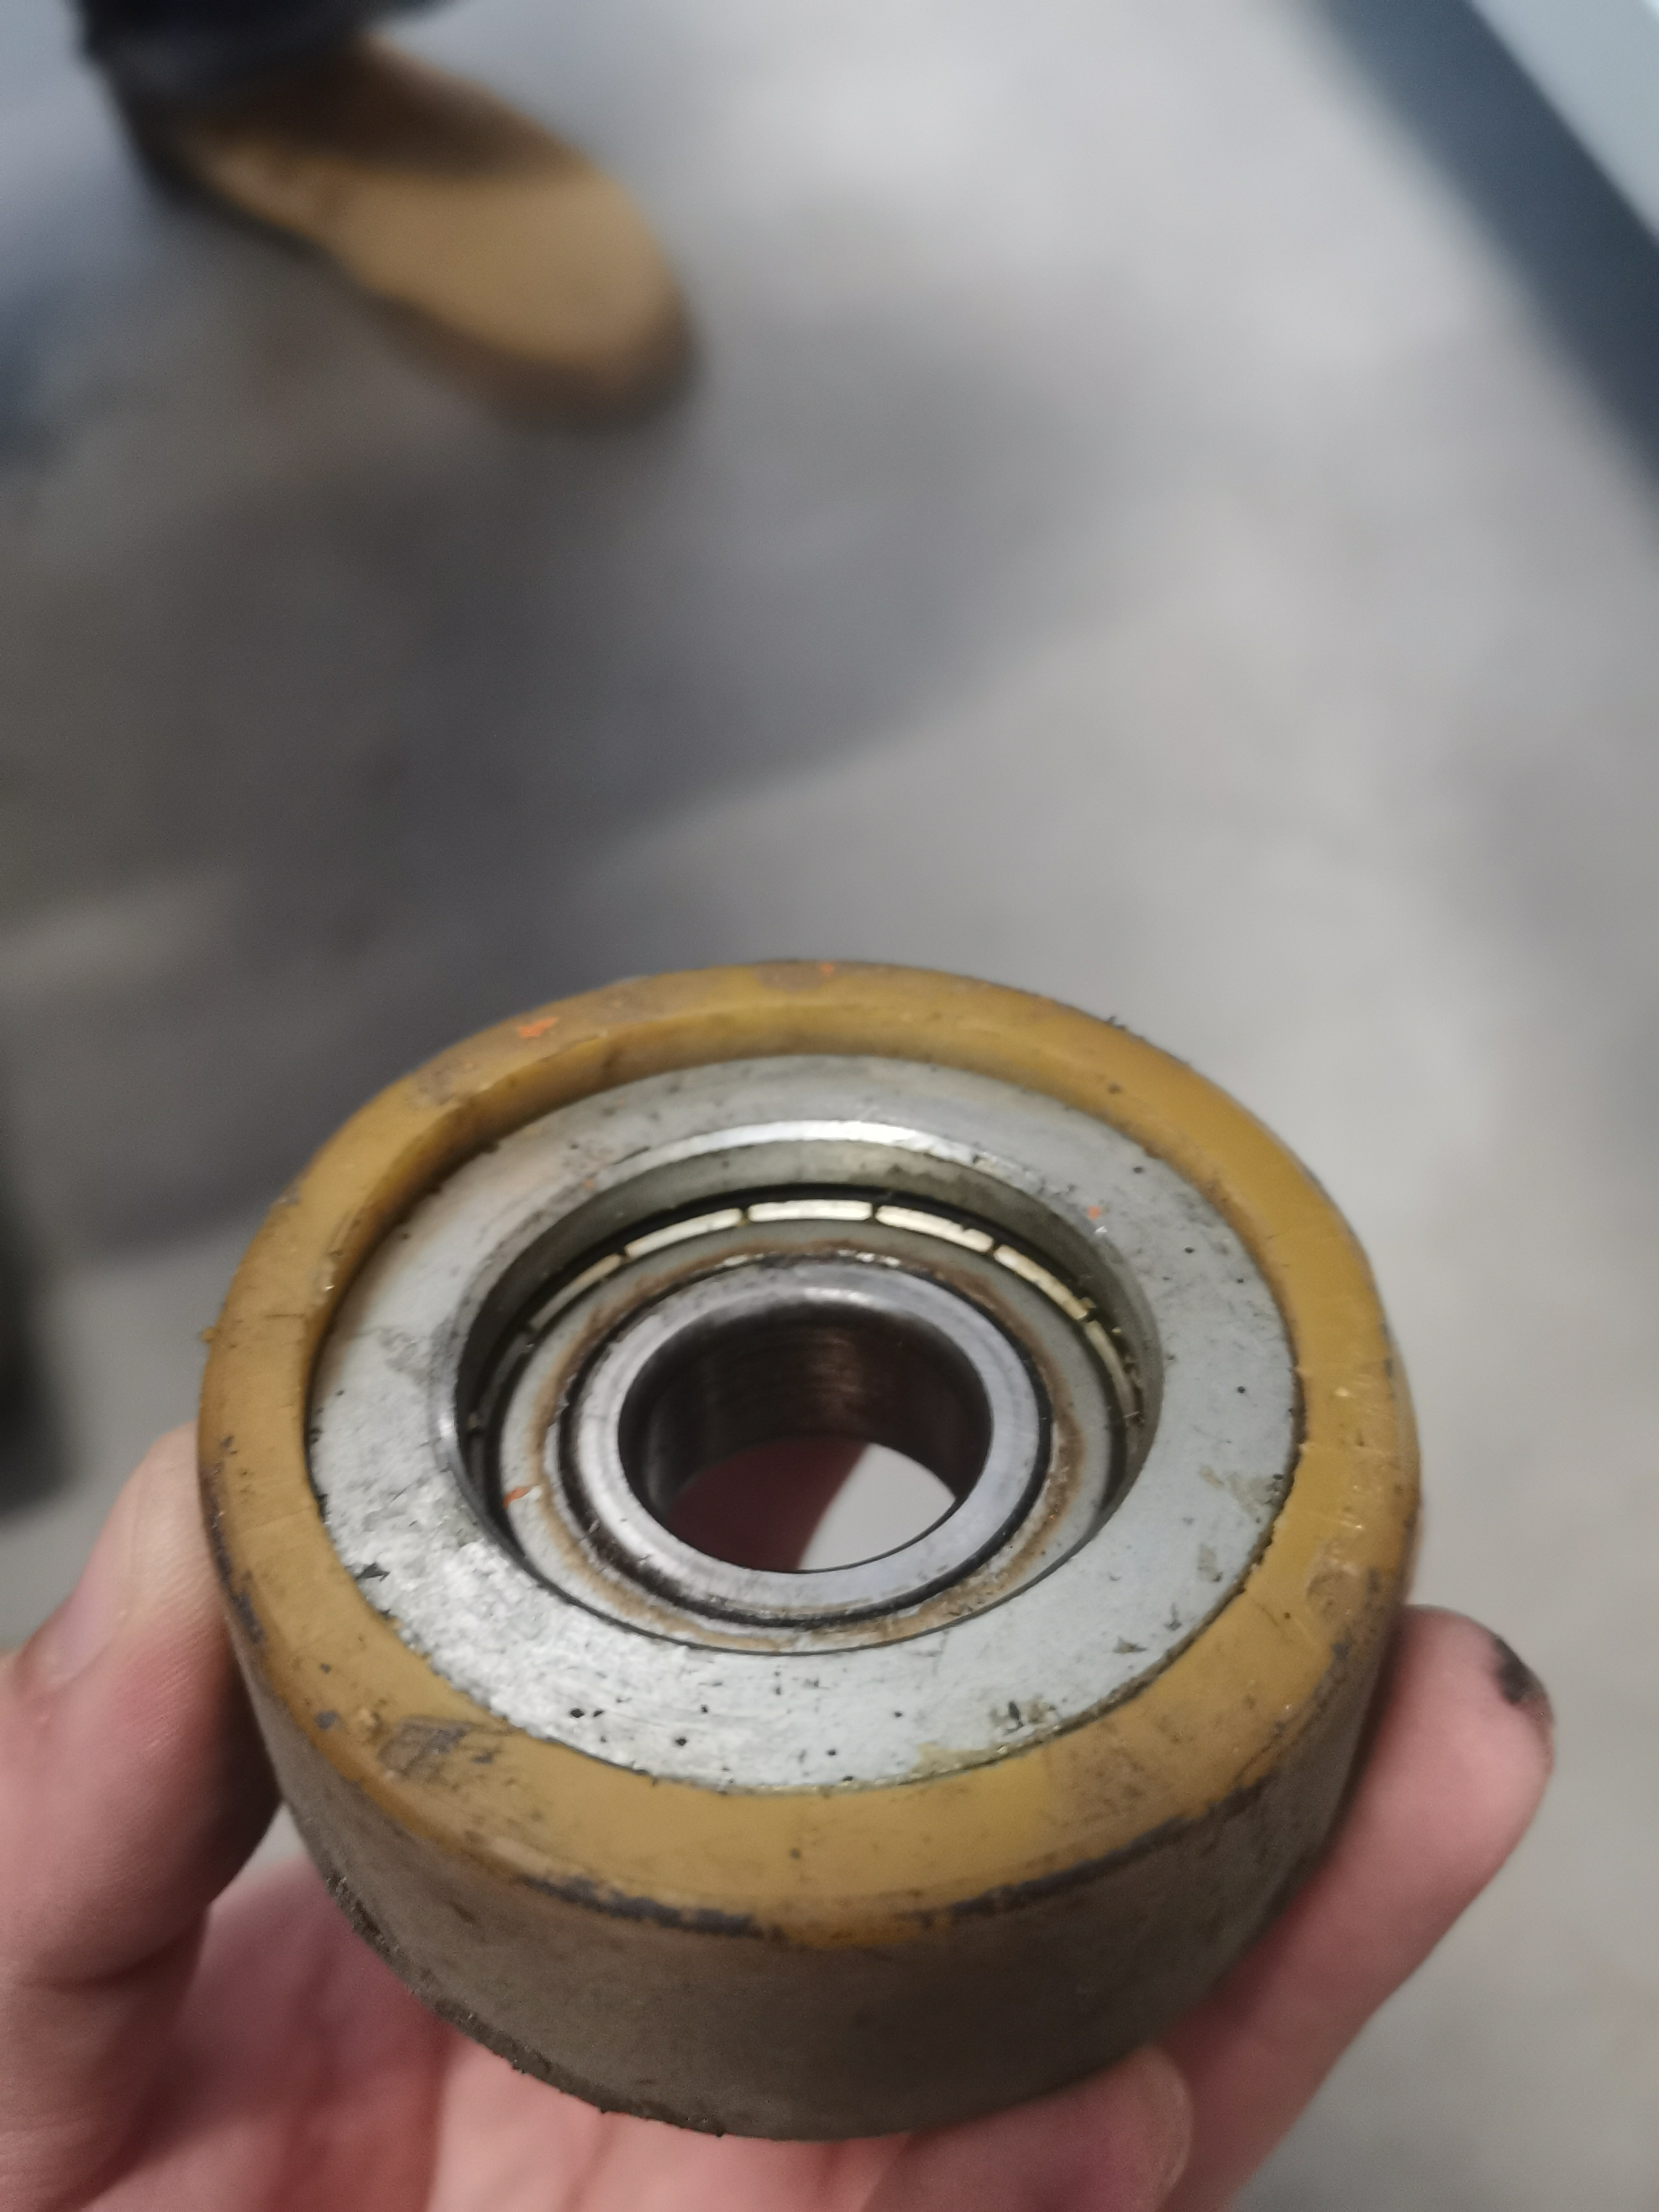bad_wheel: (195, 972, 1331, 1352)
